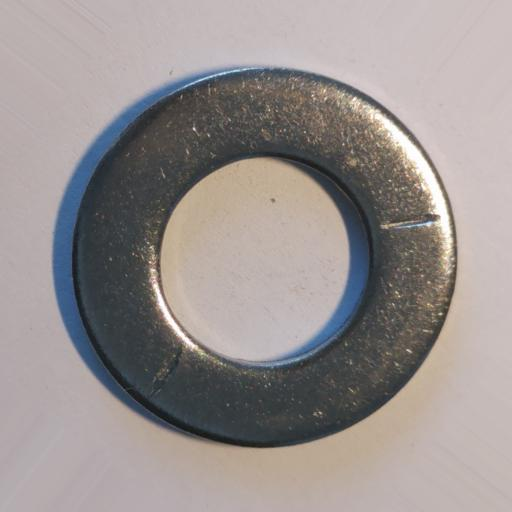scratch: (151, 349, 183, 396), (379, 214, 442, 231)
